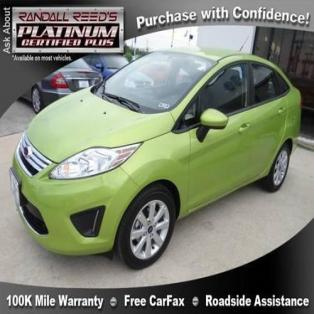Auto: (8, 45, 302, 270)
